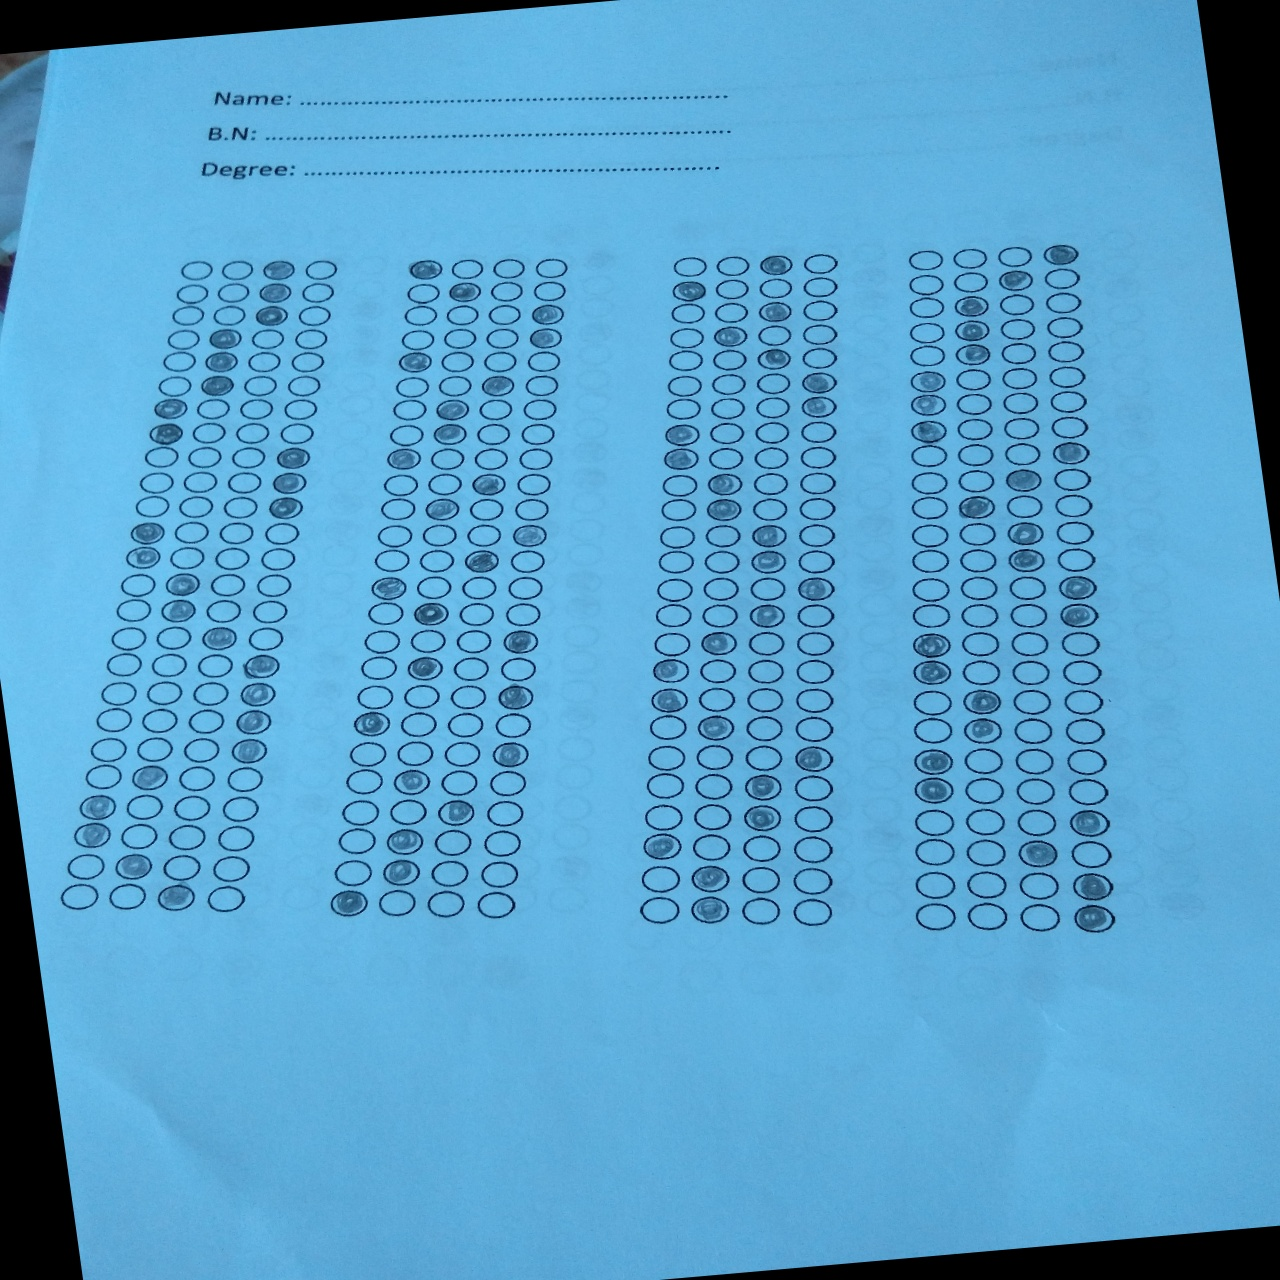not-c: (636, 894, 683, 927), (737, 894, 784, 927), (789, 864, 836, 897), (203, 883, 248, 915), (789, 896, 835, 928), (737, 864, 783, 897), (738, 831, 784, 864), (790, 833, 836, 866), (964, 869, 1009, 901), (1016, 869, 1062, 901), (964, 900, 1010, 932), (792, 712, 836, 745), (374, 887, 418, 920), (342, 765, 387, 798), (393, 737, 437, 770), (913, 869, 958, 901), (912, 900, 956, 933), (482, 799, 527, 831), (1068, 839, 1114, 871), (437, 767, 481, 799), (690, 801, 734, 833), (794, 685, 837, 717), (639, 863, 682, 896), (913, 835, 956, 867), (474, 888, 518, 920), (481, 828, 525, 859), (485, 768, 530, 799), (343, 738, 388, 770), (790, 803, 835, 835), (1014, 806, 1058, 838), (964, 806, 1008, 838), (912, 806, 956, 838), (964, 837, 1008, 869), (1017, 901, 1062, 933), (644, 801, 686, 833), (792, 772, 835, 805), (331, 857, 374, 888), (427, 858, 470, 890), (430, 828, 474, 859), (365, 598, 408, 629), (644, 770, 687, 802), (690, 832, 734, 864), (384, 797, 429, 828), (496, 654, 540, 685), (502, 572, 546, 602), (910, 687, 954, 717), (1013, 776, 1057, 806), (64, 851, 107, 883), (1010, 686, 1053, 717), (159, 852, 203, 883), (105, 881, 149, 912), (57, 881, 101, 912), (424, 888, 468, 919), (478, 859, 522, 890), (334, 828, 377, 858), (339, 797, 382, 828), (440, 738, 483, 769), (491, 710, 535, 741), (447, 682, 490, 713), (450, 654, 493, 685), (358, 653, 401, 683), (406, 625, 449, 655), (411, 572, 455, 602), (456, 572, 499, 602), (743, 685, 787, 715), (742, 714, 785, 744), (741, 742, 784, 772), (695, 685, 738, 715), (692, 771, 735, 802), (1008, 628, 1051, 659), (1058, 628, 1102, 659), (960, 658, 1003, 688), (1064, 745, 1108, 776), (360, 627, 404, 656), (454, 600, 498, 629), (911, 716, 955, 745), (1062, 716, 1107, 745), (166, 822, 207, 853), (693, 741, 735, 771), (1010, 656, 1053, 687), (1012, 715, 1054, 745), (1062, 688, 1104, 719), (962, 745, 1005, 776), (964, 775, 1006, 805), (219, 795, 263, 824), (215, 824, 258, 853), (210, 855, 253, 884), (353, 682, 396, 712), (399, 682, 442, 712), (451, 627, 495, 656), (794, 520, 837, 550), (651, 629, 694, 659), (959, 629, 1002, 659), (1061, 658, 1104, 687), (1014, 745, 1057, 775), (1065, 777, 1109, 806), (794, 629, 838, 658), (176, 763, 217, 794), (745, 655, 787, 686), (113, 597, 155, 626), (248, 597, 291, 626), (245, 624, 287, 653), (171, 794, 213, 823), (118, 822, 161, 851), (444, 710, 486, 740), (645, 743, 687, 772), (794, 656, 836, 686), (696, 658, 738, 687), (123, 792, 166, 821), (396, 710, 440, 738), (795, 495, 838, 523), (652, 601, 695, 629), (745, 574, 789, 602), (207, 570, 248, 599), (154, 622, 195, 652), (189, 679, 230, 708), (139, 706, 181, 735), (700, 549, 744, 576), (501, 601, 543, 629), (512, 470, 554, 498), (380, 471, 422, 499), (469, 444, 511, 472), (384, 421, 427, 449), (795, 547, 837, 576), (701, 522, 743, 550), (654, 576, 696, 604), (697, 602, 740, 631), (794, 601, 836, 629), (647, 713, 689, 741), (1047, 388, 1089, 416), (955, 467, 998, 495), (1003, 493, 1046, 522), (958, 547, 1000, 576), (1008, 601, 1050, 629), (204, 597, 244, 626), (108, 622, 148, 652), (148, 651, 188, 680), (93, 704, 132, 734), (195, 651, 236, 679), (97, 679, 138, 707), (181, 736, 222, 764), (134, 735, 175, 763), (224, 765, 265, 794), (372, 547, 413, 576), (418, 522, 459, 550), (463, 520, 504, 549), (511, 496, 552, 524), (377, 495, 418, 523), (427, 445, 468, 474), (517, 421, 558, 449), (472, 420, 513, 448), (388, 396, 429, 424), (658, 523, 699, 551), (745, 629, 787, 658), (908, 469, 949, 497), (908, 493, 949, 522), (908, 522, 949, 550), (956, 520, 998, 549), (1051, 465, 1092, 493), (1054, 518, 1095, 546), (1056, 546, 1097, 574), (908, 547, 949, 576), (910, 576, 951, 604), (958, 574, 999, 602), (1007, 574, 1048, 602), (373, 524, 415, 551), (799, 250, 842, 277), (797, 418, 839, 445), (655, 549, 697, 576), (699, 576, 741, 602), (1041, 265, 1083, 292), (253, 571, 293, 599), (118, 571, 158, 599), (104, 651, 144, 679), (144, 679, 184, 707), (186, 708, 226, 736), (88, 736, 128, 764), (83, 763, 123, 791), (515, 445, 554, 474), (181, 468, 222, 495), (132, 493, 173, 520), (464, 496, 505, 523), (424, 471, 465, 498), (392, 374, 433, 401), (520, 372, 561, 399), (440, 325, 481, 352), (483, 301, 524, 328), (402, 280, 443, 307), (445, 256, 486, 282), (486, 277, 527, 304), (527, 278, 568, 305), (712, 252, 753, 279), (710, 275, 751, 302), (667, 300, 708, 327), (704, 445, 745, 472), (751, 444, 792, 471), (798, 470, 839, 497), (906, 247, 947, 274), (949, 268, 990, 295), (1042, 290, 1083, 316), (1046, 338, 1087, 365), (999, 365, 1040, 392), (1046, 365, 1087, 392), (1053, 492, 1094, 519), (911, 602, 952, 629), (959, 602, 1000, 629), (508, 547, 546, 576), (218, 493, 258, 520), (753, 418, 792, 445), (949, 245, 989, 272), (136, 470, 177, 496), (175, 493, 216, 519), (171, 519, 212, 545), (166, 545, 207, 571), (433, 373, 474, 399), (474, 397, 515, 423), (518, 396, 559, 422), (522, 348, 563, 374), (479, 349, 520, 375), (397, 327, 438, 353), (400, 302, 441, 328), (488, 256, 529, 281), (669, 254, 710, 280), (753, 275, 794, 301), (712, 300, 753, 326), (666, 325, 707, 350), (665, 348, 706, 374), (708, 346, 749, 372), (754, 322, 795, 348), (799, 298, 840, 324), (799, 346, 840, 372), (753, 370, 794, 396), (707, 395, 748, 421), (796, 445, 837, 471), (659, 474, 700, 499), (748, 497, 789, 523), (905, 294, 946, 320), (907, 320, 948, 346), (906, 343, 947, 369), (998, 340, 1039, 366), (998, 316, 1039, 342), (1044, 315, 1085, 341), (953, 366, 994, 392), (954, 417, 995, 443), (908, 442, 949, 468), (999, 392, 1040, 417), (1002, 416, 1043, 442), (1049, 414, 1090, 440), (225, 470, 265, 496), (216, 519, 256, 545), (263, 520, 302, 546), (212, 545, 252, 571), (258, 546, 298, 572), (436, 349, 476, 375), (481, 326, 520, 352), (442, 302, 482, 328), (531, 256, 571, 281), (801, 274, 840, 300), (799, 322, 839, 348), (708, 372, 748, 397), (663, 373, 703, 399), (663, 395, 703, 421), (753, 394, 792, 420), (706, 420, 745, 445), (750, 471, 790, 497), (658, 498, 697, 524), (995, 243, 1035, 268), (907, 271, 947, 297), (998, 292, 1037, 318), (954, 392, 994, 417), (956, 442, 996, 468), (1002, 441, 1042, 467), (302, 256, 340, 282), (297, 302, 334, 329), (417, 547, 455, 574), (210, 302, 248, 328), (237, 396, 275, 422), (229, 445, 267, 471), (177, 257, 215, 282), (218, 258, 256, 284), (290, 349, 327, 375), (285, 373, 322, 399), (233, 421, 271, 447), (241, 373, 279, 399), (247, 326, 285, 352), (164, 327, 202, 353), (143, 444, 181, 470), (298, 280, 336, 305), (159, 349, 198, 374), (155, 374, 193, 399), (190, 420, 229, 444), (173, 281, 210, 307), (170, 302, 206, 328), (215, 280, 252, 305), (293, 326, 331, 350), (281, 397, 319, 422), (278, 421, 315, 445), (245, 349, 282, 374), (193, 396, 231, 421), (186, 444, 224, 469)
taken-c: (1069, 869, 1118, 904), (1014, 835, 1062, 870), (1071, 903, 1121, 937), (910, 772, 959, 806), (1065, 806, 1114, 840), (908, 745, 956, 778), (906, 656, 955, 688), (959, 715, 1007, 747), (906, 629, 955, 660), (1054, 599, 1103, 629), (956, 686, 1005, 716), (687, 862, 731, 894), (377, 857, 423, 888), (493, 681, 539, 713), (382, 828, 427, 859), (401, 653, 445, 685), (433, 797, 478, 828), (488, 741, 533, 771), (1002, 519, 1048, 550), (904, 366, 949, 396), (741, 802, 783, 835), (154, 883, 197, 914), (110, 851, 155, 881), (327, 887, 372, 918), (389, 768, 434, 798), (410, 600, 455, 631), (1001, 465, 1046, 496), (1048, 440, 1094, 469), (905, 418, 951, 448), (70, 821, 114, 851), (349, 709, 393, 740), (741, 772, 784, 803), (687, 894, 730, 925), (694, 713, 738, 742), (791, 744, 836, 774), (1055, 573, 1099, 602), (1003, 546, 1048, 576), (905, 390, 949, 420), (949, 292, 994, 321), (420, 493, 462, 524), (640, 831, 682, 862), (1039, 241, 1084, 270), (498, 628, 542, 658), (461, 546, 504, 576), (508, 522, 551, 551), (696, 628, 740, 658), (647, 685, 690, 714), (954, 492, 999, 520), (241, 651, 282, 681), (237, 680, 278, 710), (226, 736, 268, 765), (128, 763, 170, 792), (992, 267, 1037, 294), (367, 576, 410, 604), (795, 574, 838, 602), (234, 707, 275, 736), (467, 470, 508, 499), (949, 316, 994, 343), (649, 658, 692, 686), (745, 602, 789, 629), (949, 342, 993, 369), (77, 794, 118, 822), (382, 445, 423, 474), (431, 396, 472, 424), (477, 372, 518, 400), (430, 421, 470, 449), (395, 349, 435, 377), (660, 445, 700, 474), (200, 349, 241, 376), (525, 325, 566, 352), (527, 302, 568, 329), (445, 278, 486, 305), (753, 346, 794, 373), (799, 370, 840, 397), (703, 497, 744, 524), (258, 256, 298, 282), (254, 280, 294, 307), (265, 493, 305, 520), (123, 545, 163, 572), (161, 571, 200, 598), (199, 625, 239, 652), (406, 256, 445, 282), (755, 252, 795, 279), (669, 275, 709, 302), (756, 298, 796, 325), (710, 324, 750, 350), (798, 393, 838, 420), (663, 422, 703, 449), (703, 471, 743, 498), (748, 522, 788, 549), (748, 549, 788, 576), (158, 597, 197, 624), (251, 302, 291, 328), (205, 325, 245, 350), (272, 445, 312, 471), (270, 471, 309, 497), (128, 520, 168, 546), (197, 373, 236, 399), (150, 396, 189, 422), (147, 420, 185, 445)
